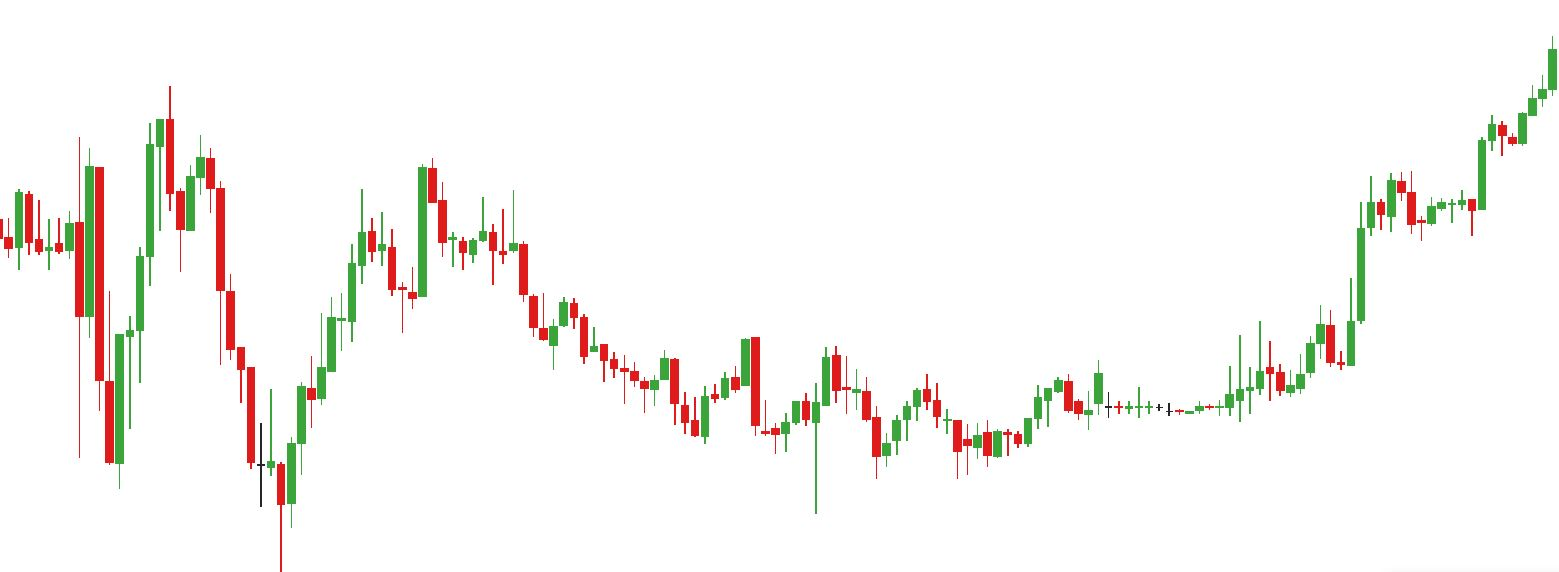buy: (105, 255, 277, 522)
sell: (357, 148, 439, 255)
